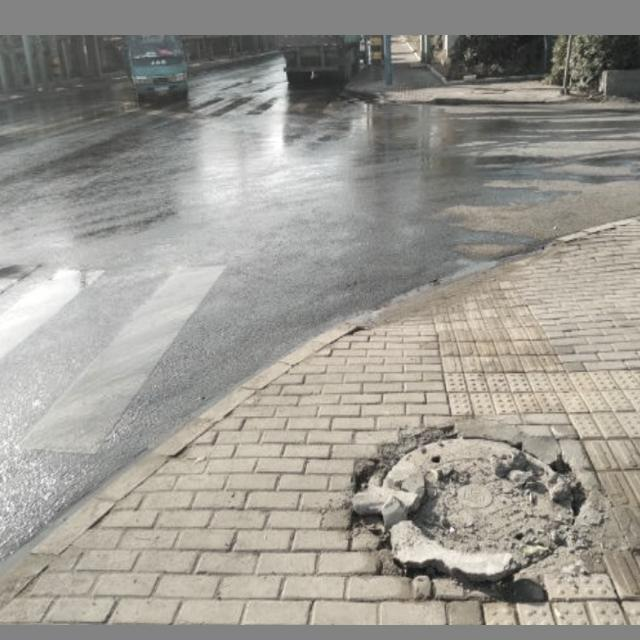circle: (349, 408, 612, 588)
